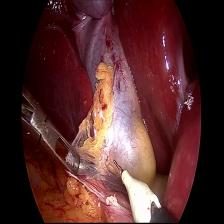Grasper: (18, 84, 83, 182)
Hook: (108, 149, 164, 224)
